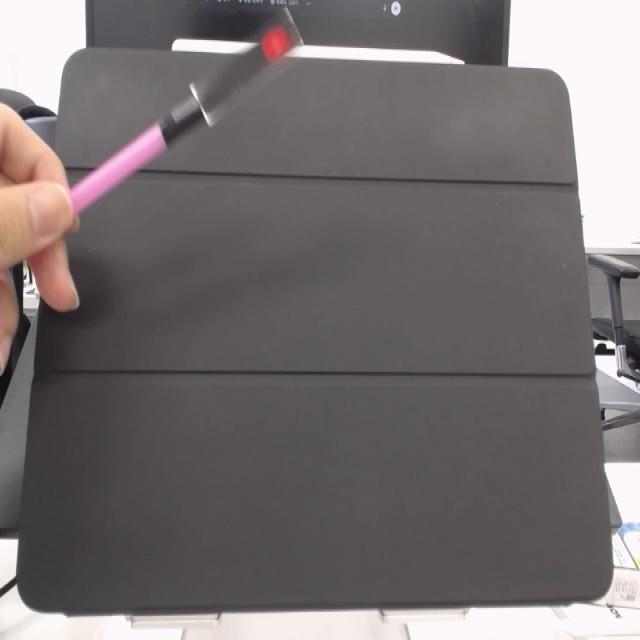traffic light: (203, 29, 305, 119)
